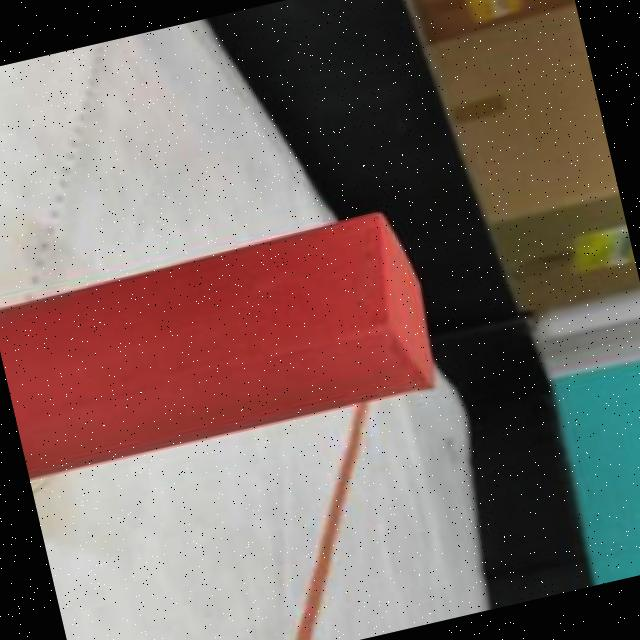redbox: (0, 202, 449, 482)
